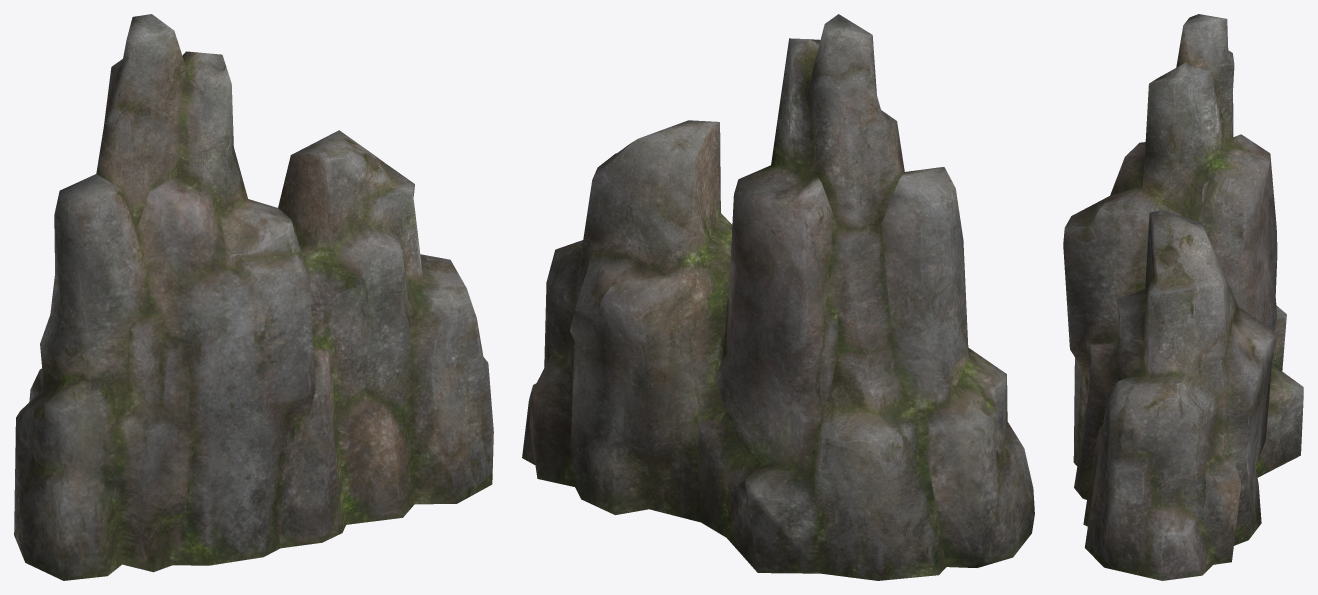
The model's file is jn_shitou02.FBX.
The picture shows the model from 3 angles, left to right: view 1: azimuth 30°, elevation 25°; view 2: azimuth 150°, elevation 25°; view 3: azimuth 270°, elevation 25°; orthographic projection. The views are drawn at different scales.
Visible parts, largest first — view 1: jn_shitou02; view 2: jn_shitou02; view 3: jn_shitou02.
Boxes of the visible parts, box(x1,y1,x2,y2) form: jn_shitou02: box(14, 14, 493, 580); jn_shitou02: box(522, 14, 1034, 580); jn_shitou02: box(1063, 14, 1303, 580).
Size of the model in its own units: 383 by 390 by 198.
